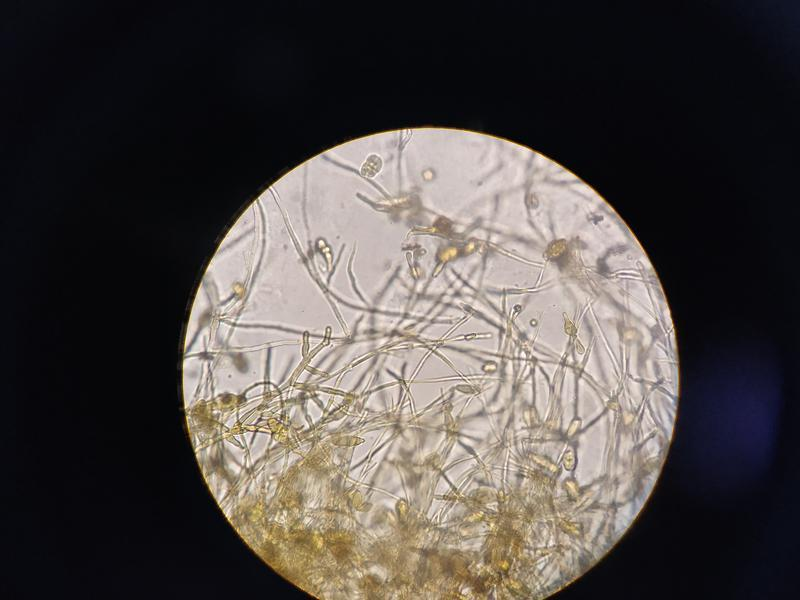fungus: (256, 208, 610, 553)
